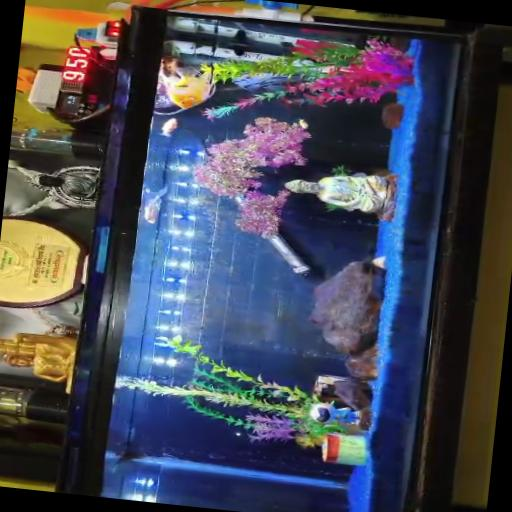Fish: (167, 72, 215, 108), (145, 186, 168, 222), (160, 117, 178, 136), (298, 118, 309, 129)
